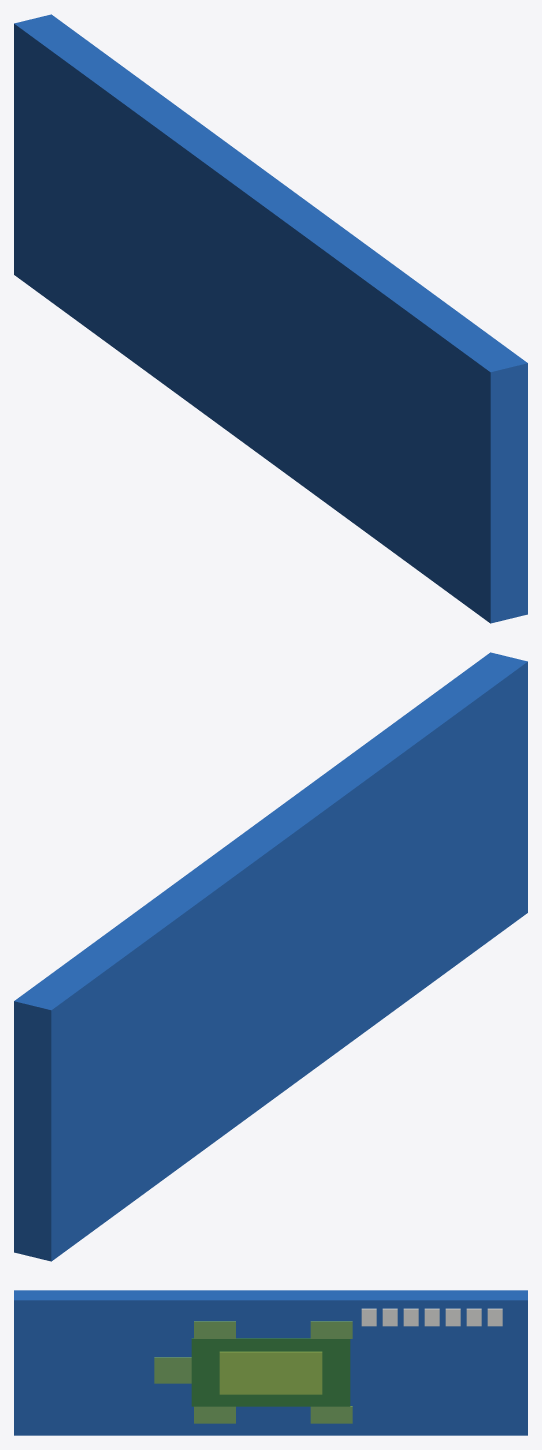
Rendered from sn_wekulcha.glb.
The picture shows the model from 3 angles, top to bottom: view 1: azimuth 30°, elevation 25°; view 2: azimuth 150°, elevation 25°; view 3: azimuth 270°, elevation 25°; orthographic projection. The views are drawn at different scales.
Visible parts, largest first — view 1: sn_wekulcha_lod0; view 2: sn_wekulcha_lod0; view 3: sn_wekulcha_lod0.
Boxes of the visible parts, bbox=[...] form: sn_wekulcha_lod0: bbox=[14, 14, 527, 623]; sn_wekulcha_lod0: bbox=[14, 652, 527, 1261]; sn_wekulcha_lod0: bbox=[14, 1290, 527, 1435].
Size of what is drawn, in the model's own units: 0.5694 by 3.2 by 11.
